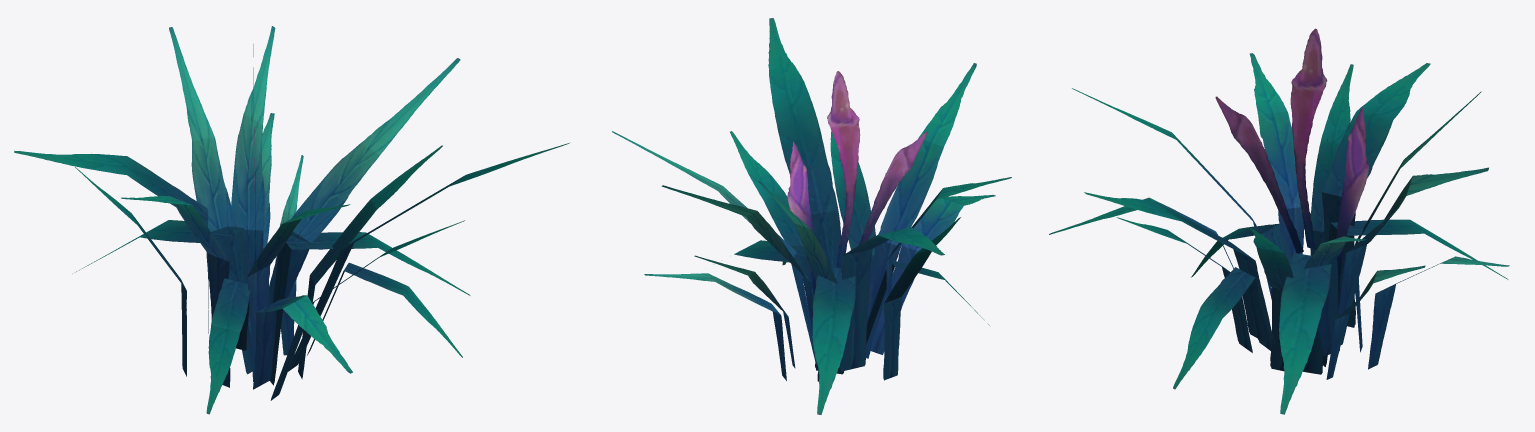
Rendered from map_111_shu_5.fbx.
3 renders of one model, left to right at view 1: azimuth 30°, elevation 25°; view 2: azimuth 150°, elevation 25°; view 3: azimuth 270°, elevation 25°, orthographic. The views are drawn at different scales.
Parts seen in each view (by area): view 1: map_111_shu_5; view 2: map_111_shu_5; view 3: map_111_shu_5.
Boxes of the visible parts, box(x1,y1,x2,y2) form: map_111_shu_5: box(14, 26, 569, 414); map_111_shu_5: box(612, 18, 1011, 414); map_111_shu_5: box(1049, 28, 1509, 414).
Size of the model in its own units: 0.8093 by 0.652 by 0.8101.
